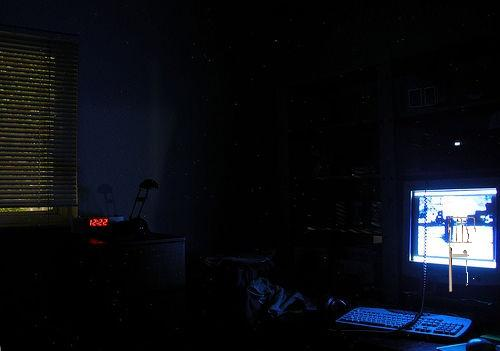tampered: (449, 218, 476, 292)
